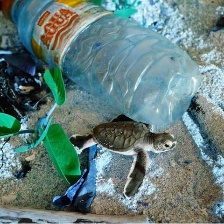bottle: (0, 0, 204, 136)
